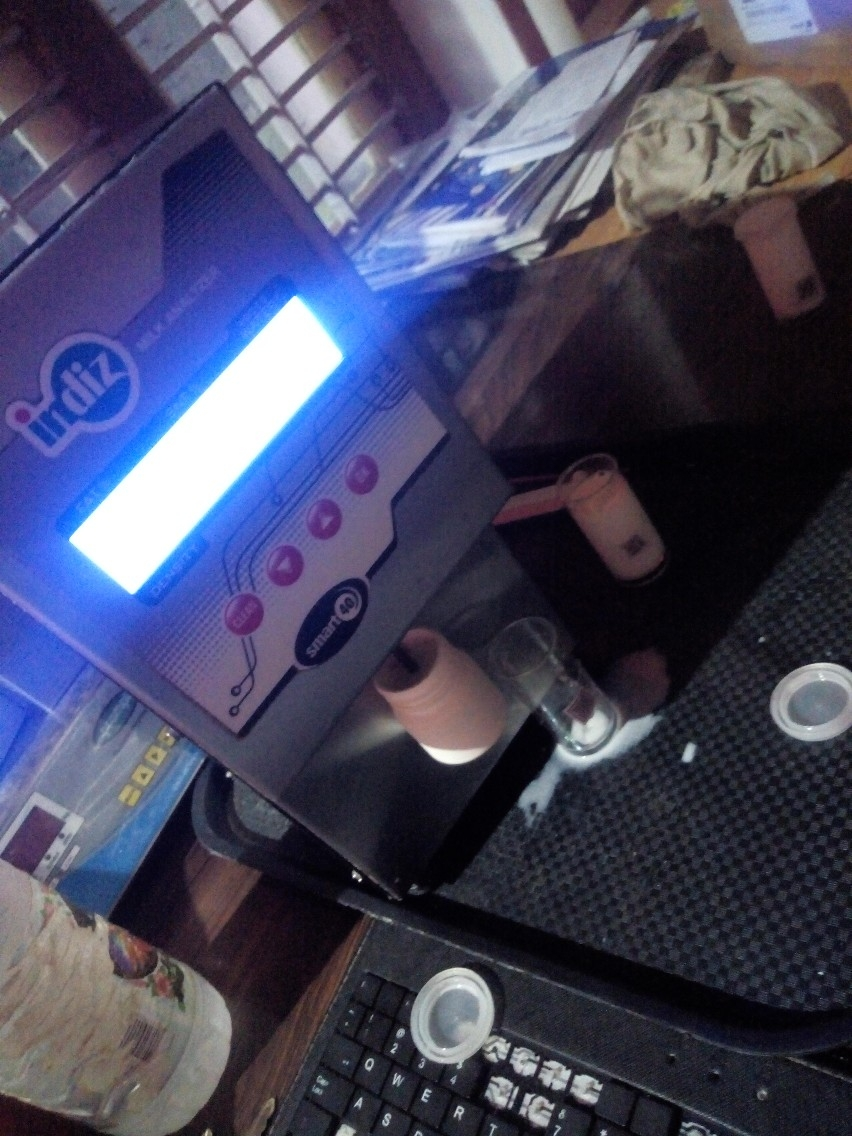lcd: (23, 288, 398, 602)
